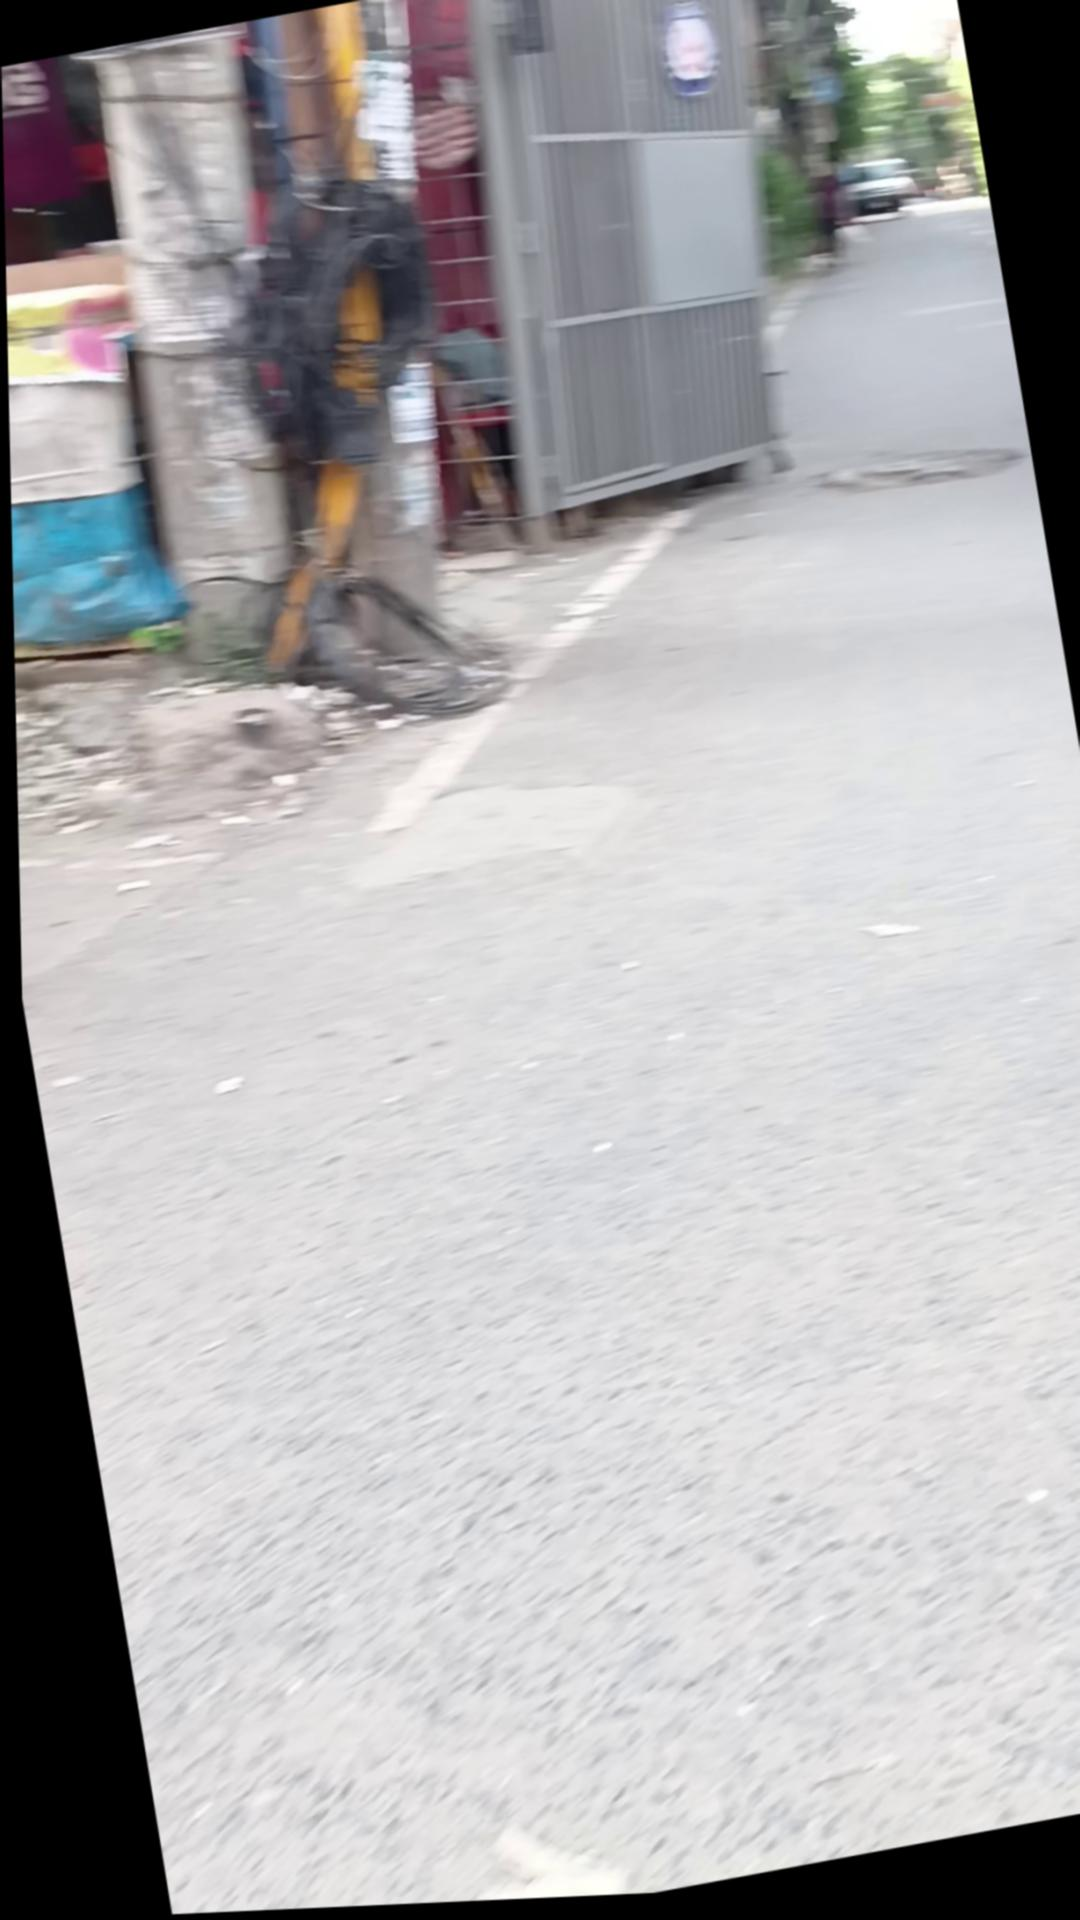Bollard: (831, 156, 943, 229)
Broken-road: (9, 526, 448, 853)
Cat: (4, 224, 187, 676)
Dog: (71, 22, 336, 667)
Obstacle: (0, 0, 645, 688)
